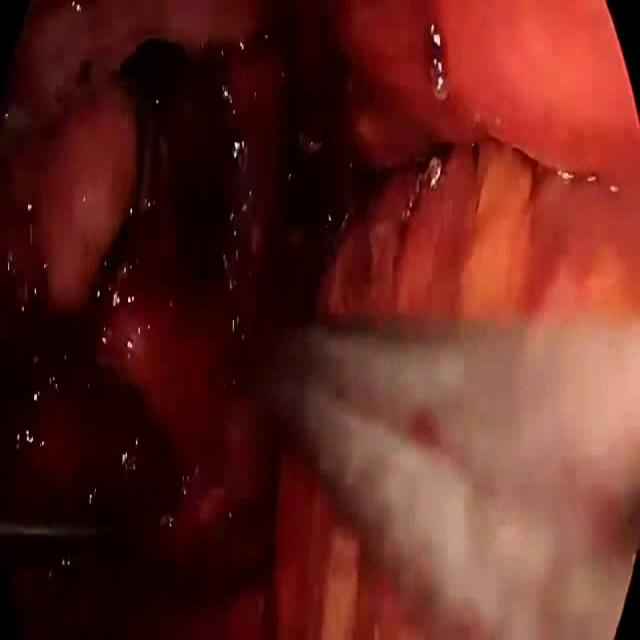surgical-area: (1, 0, 640, 639)
surgical-tool: (253, 313, 640, 639)
